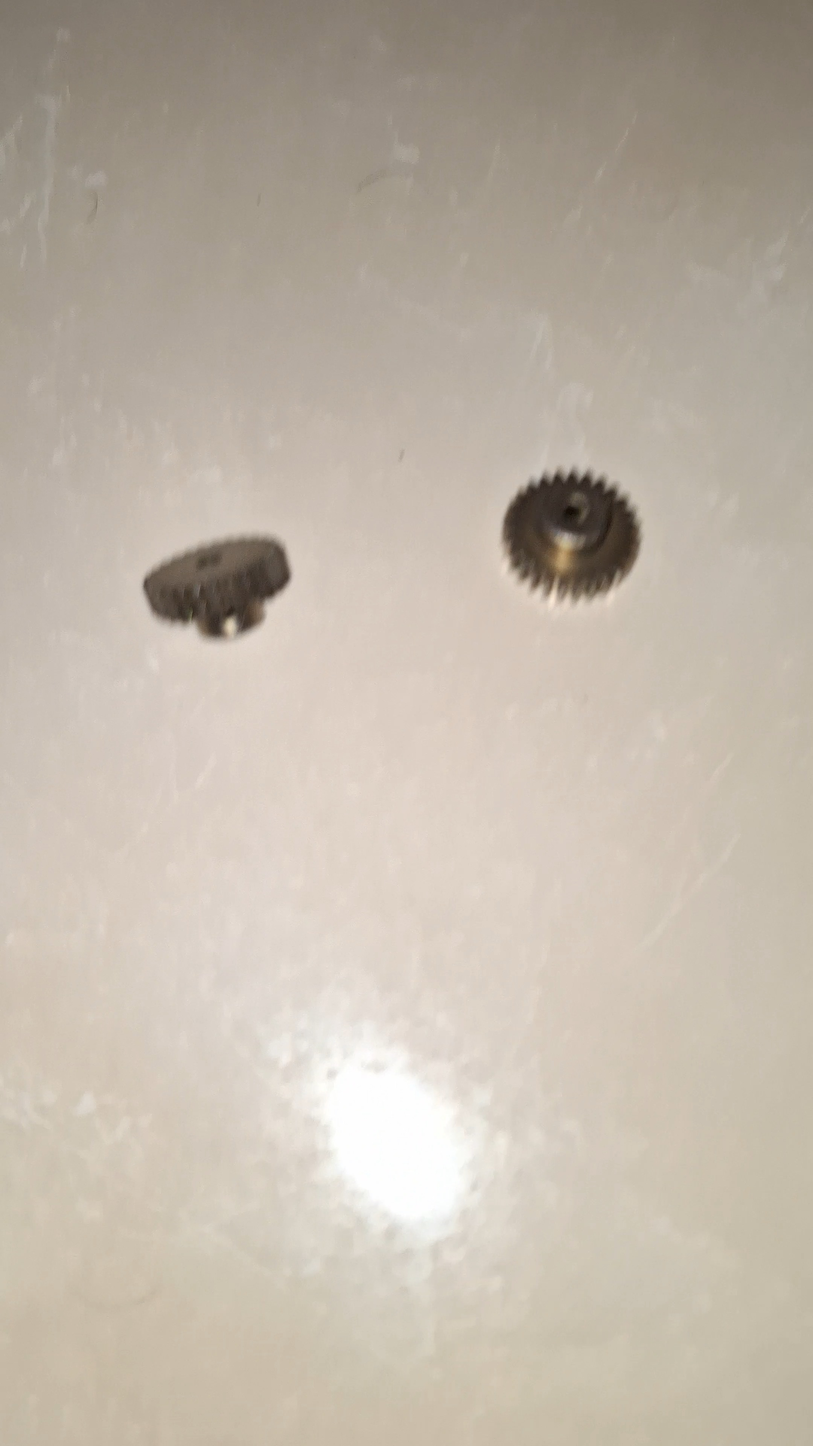spur gear: (503, 471, 639, 599), (143, 537, 289, 637)
